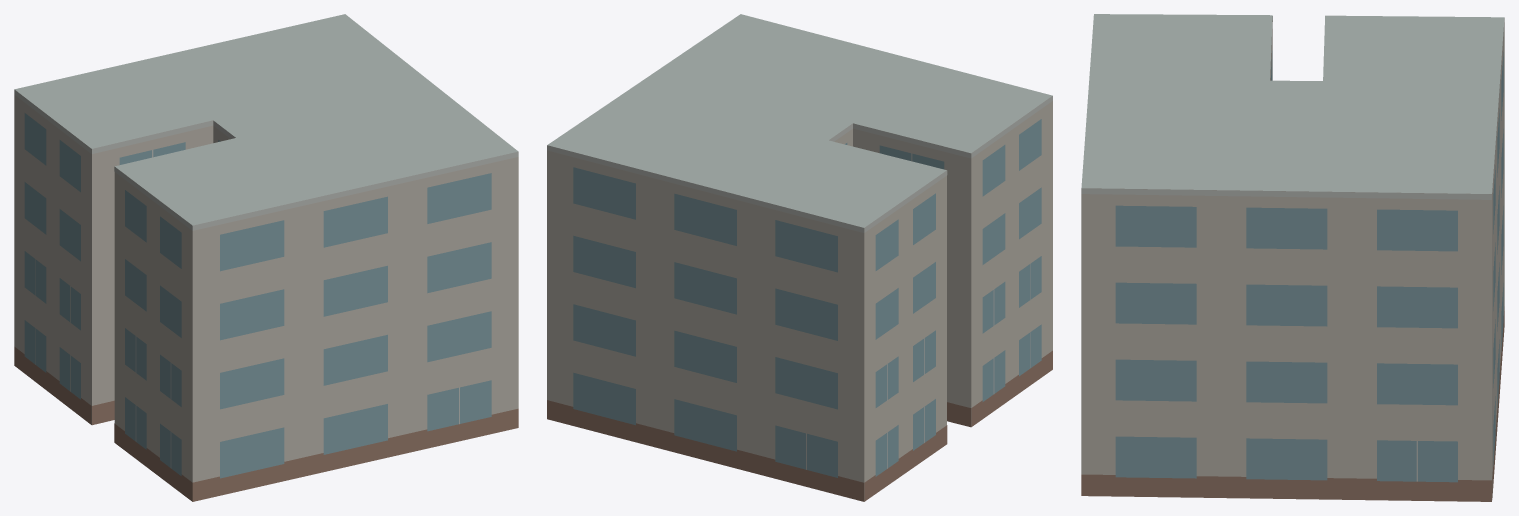
File: survey-upis-32760659.glb
The picture shows the model from 3 angles, left to right: view 1: azimuth 30°, elevation 25°; view 2: azimuth 150°, elevation 25°; view 3: azimuth 270°, elevation 25°; orthographic projection. The views are drawn at different scales.
Visible parts, largest first — view 1: survey-upis-32760659.tmp; view 2: survey-upis-32760659.tmp; view 3: survey-upis-32760659.tmp.
Part boxes in pixels (x1=…): survey-upis-32760659.tmp: x1=14, y1=14, x2=518, y2=501; survey-upis-32760659.tmp: x1=547, y1=14, x2=1052, y2=501; survey-upis-32760659.tmp: x1=1081, y1=14, x2=1504, y2=501.
Size of the model in its own units: 16.07 by 12.8 by 15.96.
